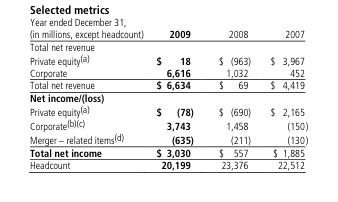table: (28, 29, 307, 170)
table column: (28, 29, 149, 170), (149, 29, 205, 170), (205, 29, 259, 170), (259, 29, 307, 170)
table column header: (28, 29, 307, 40)
table projected row header: (28, 91, 307, 104), (28, 40, 307, 52)
table row: (28, 131, 307, 146), (28, 52, 307, 66), (28, 104, 307, 118), (28, 66, 307, 79), (28, 91, 307, 104), (28, 118, 307, 131), (28, 146, 307, 159), (28, 40, 307, 52), (28, 79, 307, 91), (28, 29, 307, 40), (28, 159, 307, 170)
